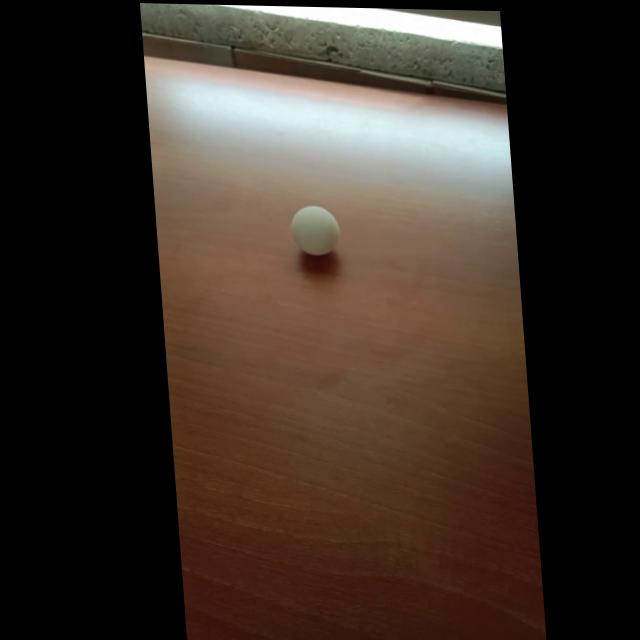white ball: (288, 204, 341, 257)
